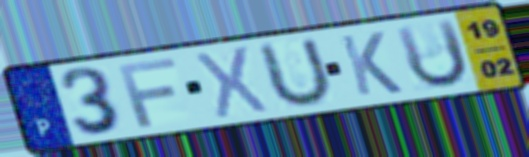3: (57, 65, 125, 138)
F: (115, 55, 180, 130)
K: (336, 29, 406, 98)
U: (256, 34, 335, 112), (391, 16, 472, 92)
X: (192, 43, 272, 121)
